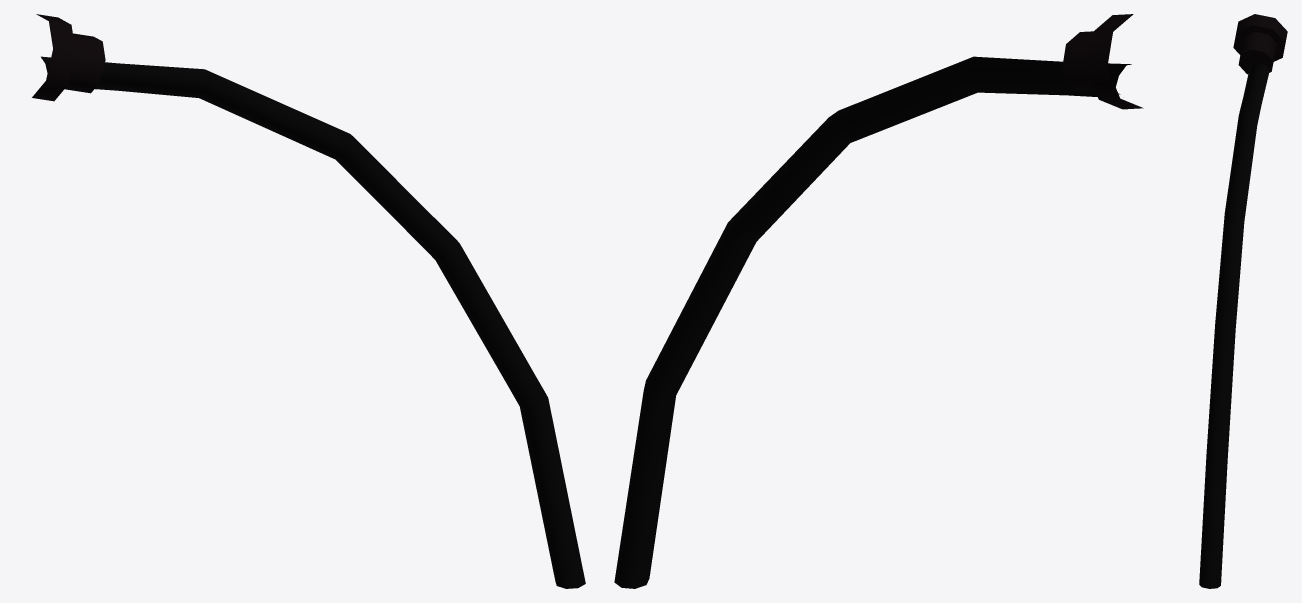
3 renders of one model, left to right at view 1: azimuth 30°, elevation 25°; view 2: azimuth 150°, elevation 25°; view 3: azimuth 270°, elevation 25°, orthographic. The views are drawn at different scales.
Visible parts, largest first — view 1: Joint_0_Object_0, Joint_0_Object_1; view 2: Joint_0_Object_0, Joint_0_Object_1; view 3: Joint_0_Object_0, Joint_0_Object_1.
Boxes of the visible parts, x1,y1,x2,y2 form: Joint_0_Object_0: (41,56,585,588); Joint_0_Object_1: (32,14,105,101); Joint_0_Object_0: (614,56,1131,588); Joint_0_Object_1: (1062,14,1143,109); Joint_0_Object_0: (1199,62,1269,588); Joint_0_Object_1: (1233,14,1287,74).
Size of the model in its own units: 190 by 227 by 43.53.
Materials: 2 (2 with a texture image).
